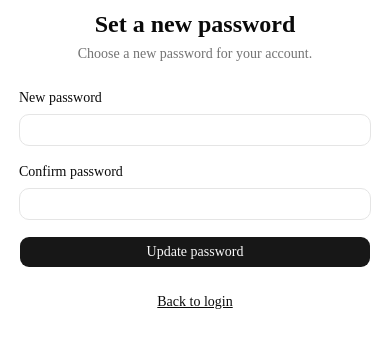
Test: <ResetPasswordForm /> › shows the error message when the action returns one
This screenshot has width=391, height=362.
Type "abcdef" into the password field labelled "New password" at (195, 130), box [19,114,371,146]
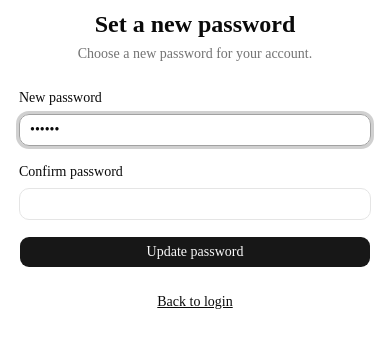
Type "xyzxyz" into the password field labelled "Confirm password" at (195, 204), box [19,188,371,220]
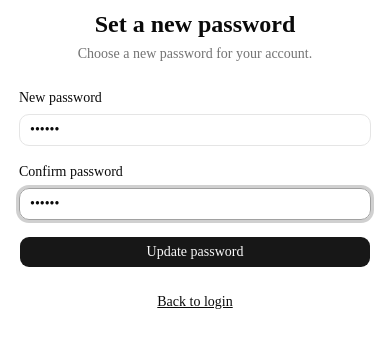
Click the button "Update password" at (195, 252), box [19,236,371,268]
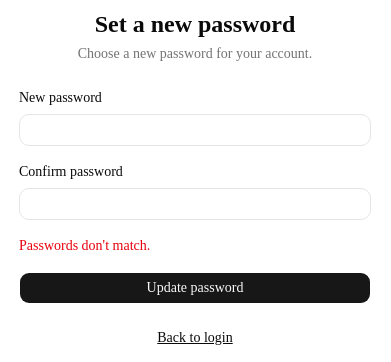
Result: the message reads "Passwords don't match." at [19,238,150,253]
